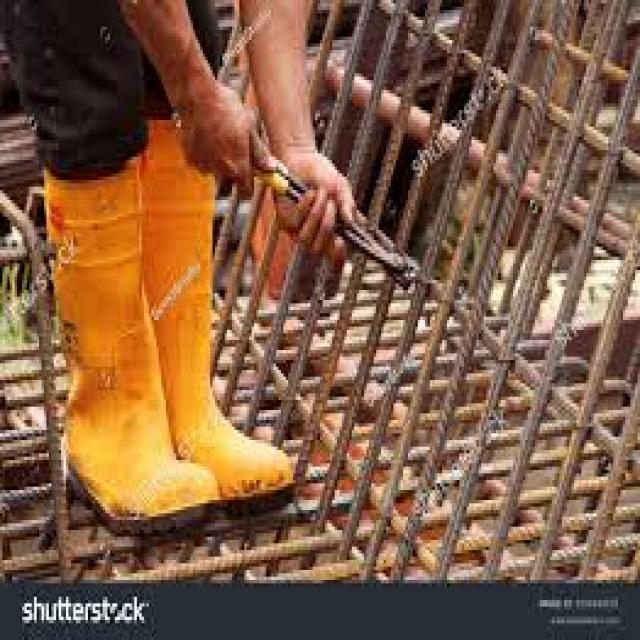shoes: (38, 122, 290, 520)
